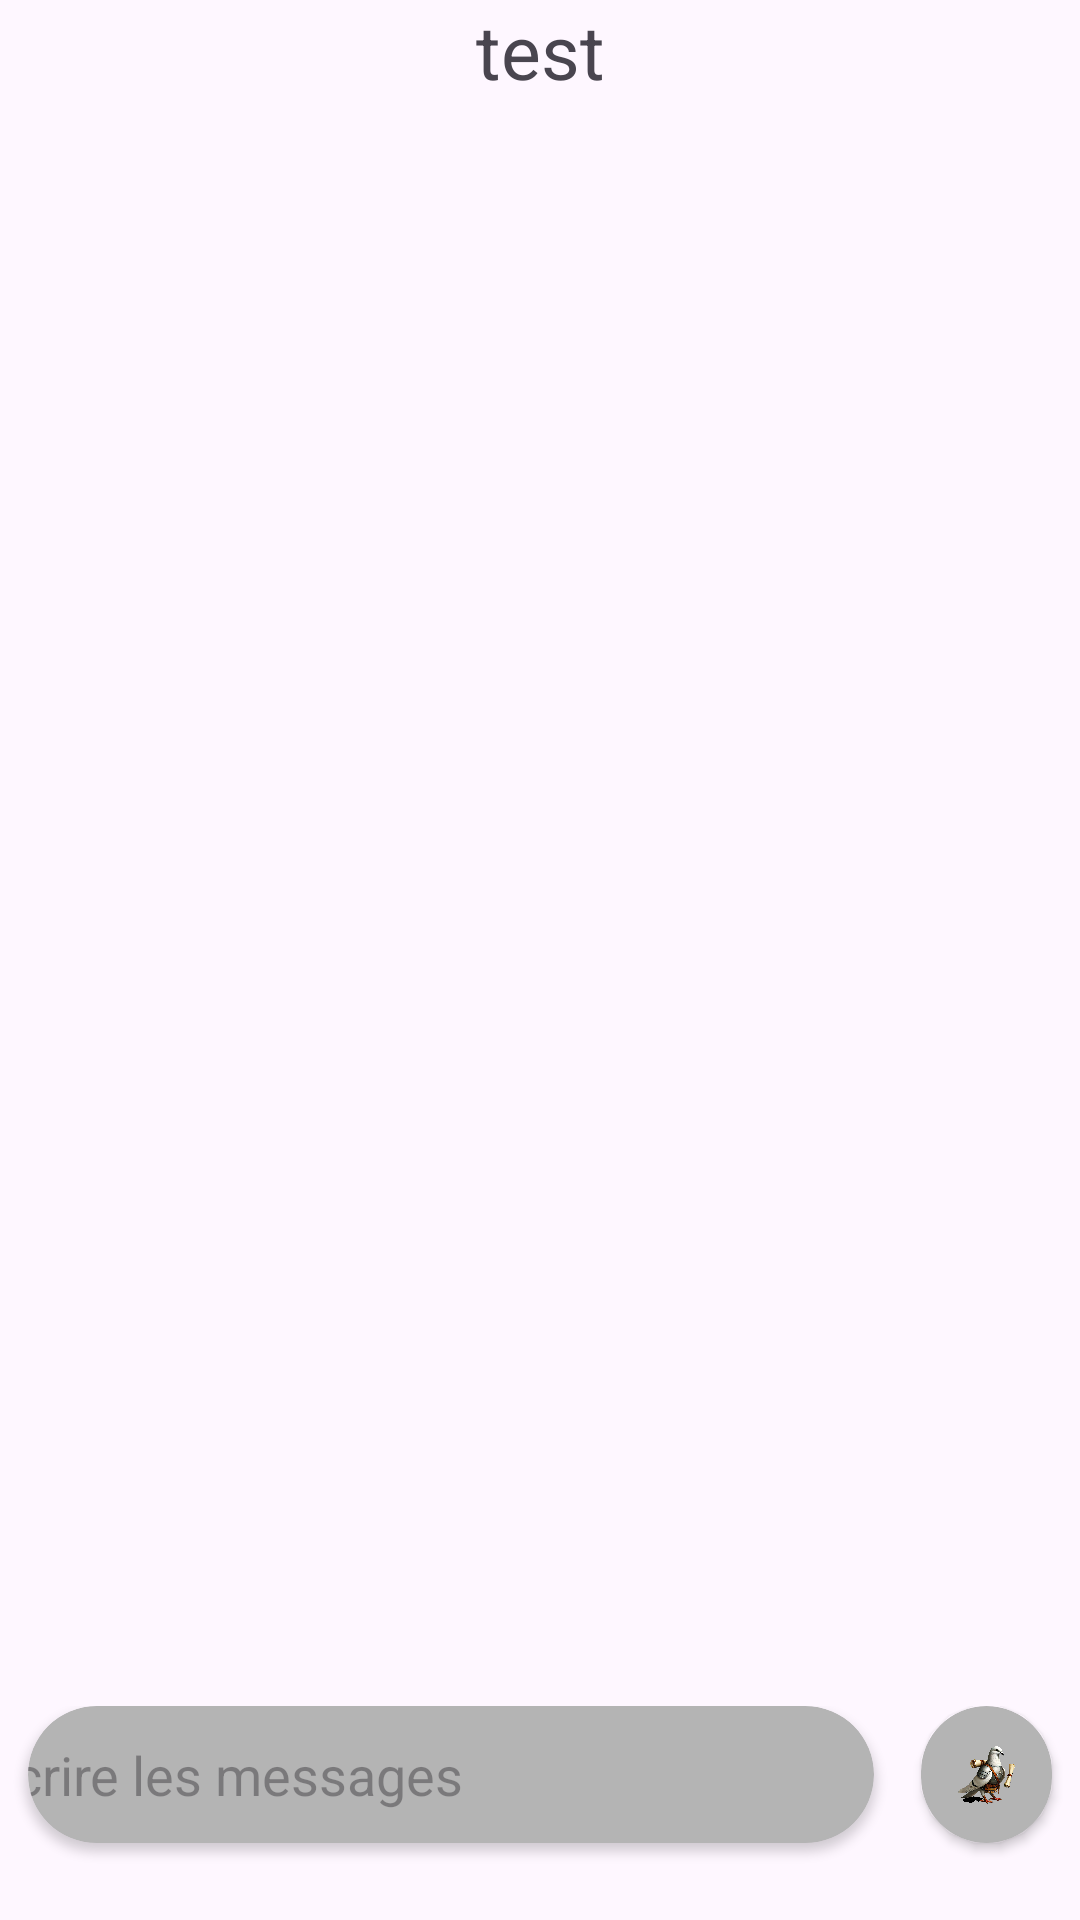

Named icons in this screenshot (1080px×1920px) and their bounding boxes, (x1, y1, x2, y2):
sendbut: (958, 1746, 1015, 1804)
